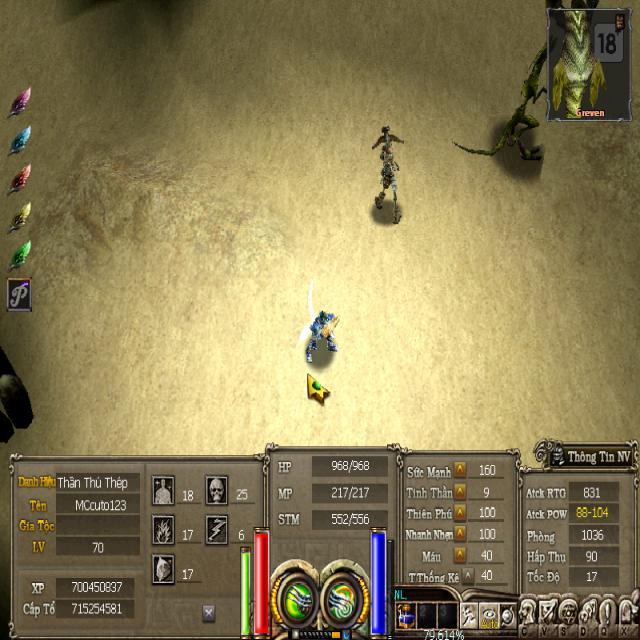monster: (375, 121, 409, 226), (514, 45, 543, 162)
